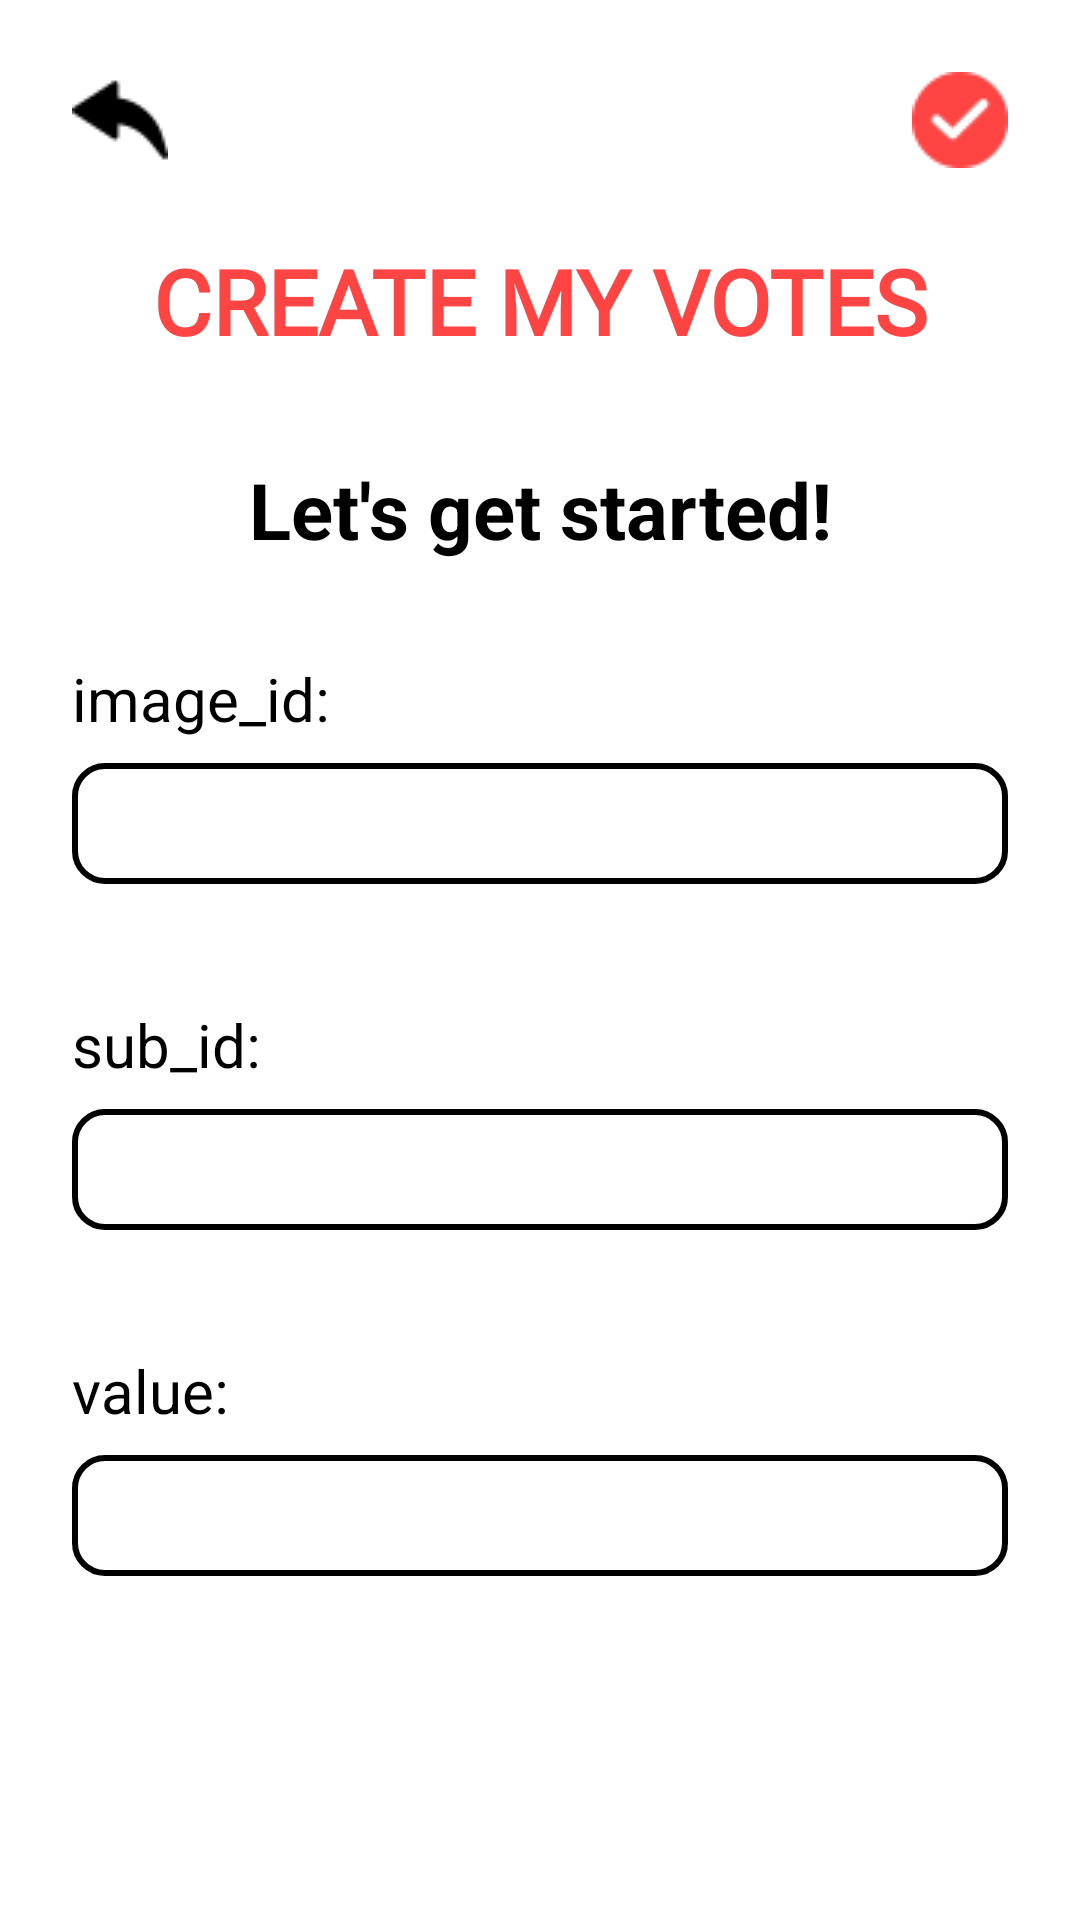

Icons on this 1080x1920 Android screen, each with its box as region(x1, y1, x2, y2):
back: region(72, 80, 168, 160)
checked: region(912, 72, 1008, 168)
